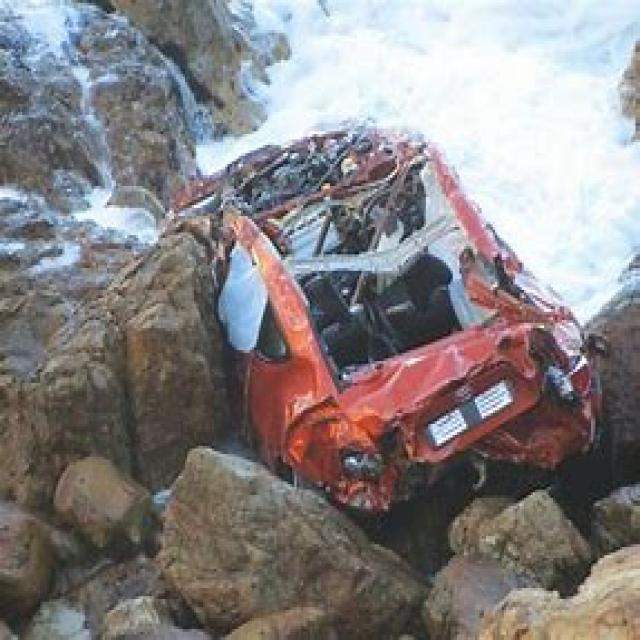Accident: (142, 132, 572, 445)
